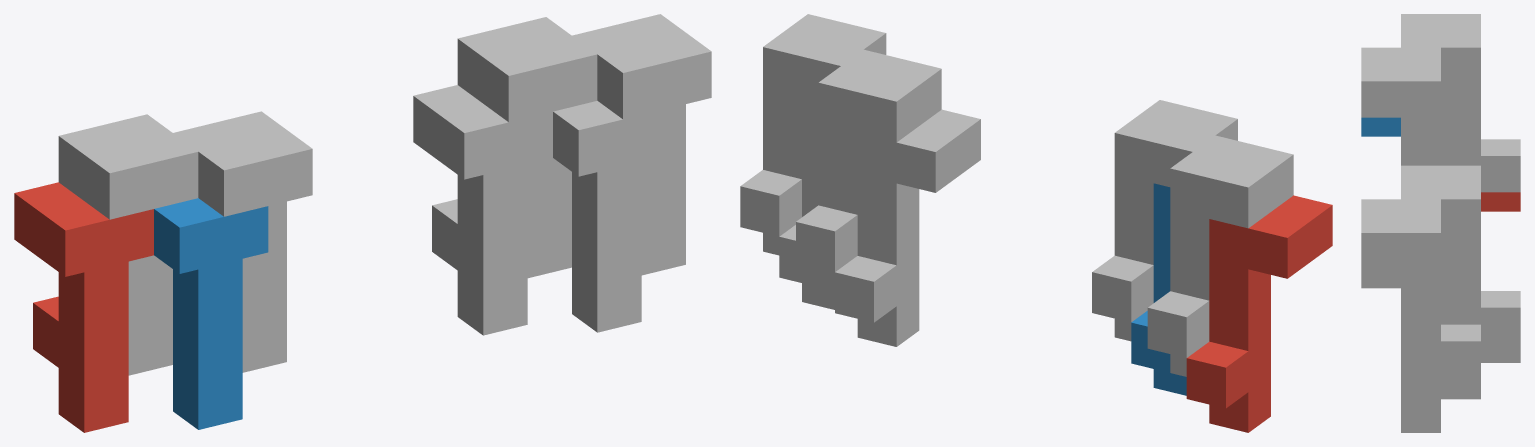
The model's file is tiling.obj.
3 views of the same model, side by side, from view 1: azimuth 30°, elevation 25°; view 2: azimuth 150°, elevation 25°; view 3: azimuth 270°, elevation 25° (orthographic). The views are drawn at different scales.
Visible parts, largest first — view 1: copy_1_domain_1, copy_1_domain_5, copy_1_domain_6, copy_1_domain_2, copy_1_domain_7, copy_1_domain_3, copy_1_domain_4, copy_1_domain_8; view 2: copy_1_domain_5, copy_1_domain_1, copy_1_domain_3, copy_1_domain_7, copy_1_domain_4, copy_1_domain_8, copy_1_domain_2, copy_1_domain_6; view 3: copy_1_domain_8, copy_1_domain_7, copy_1_domain_3, copy_1_domain_4, copy_1_domain_6, copy_1_domain_5, copy_1_domain_1, copy_1_domain_2.
Part boxes in pixels (<box>): copy_1_domain_1: <box>14,182,153,432</box>; copy_1_domain_5: <box>413,85,552,335</box>; copy_1_domain_6: <box>553,101,667,332</box>; copy_1_domain_2: <box>154,198,268,429</box>; copy_1_domain_7: <box>457,17,597,278</box>; copy_1_domain_3: <box>58,114,198,375</box>; copy_1_domain_4: <box>173,111,312,372</box>; copy_1_domain_8: <box>572,14,711,275</box>; copy_1_domain_5: <box>835,109,980,346</box>; copy_1_domain_1: <box>1186,195,1332,432</box>; copy_1_domain_3: <box>1147,135,1293,376</box>; copy_1_domain_7: <box>796,49,941,290</box>; copy_1_domain_4: <box>1092,100,1237,341</box>; copy_1_domain_8: <box>740,14,886,255</box>; copy_1_domain_2: <box>1131,183,1186,395</box>; copy_1_domain_6: <box>779,97,834,309</box>; copy_1_domain_8: <box>1361,199,1480,413</box>; copy_1_domain_7: <box>1401,165,1520,343</box>; copy_1_domain_3: <box>1401,14,1520,192</box>; copy_1_domain_4: <box>1361,47,1440,165</box>; copy_1_domain_6: <box>1361,269,1480,432</box>; copy_1_domain_5: <box>1441,344,1520,399</box>; copy_1_domain_1: <box>1481,192,1520,211</box>; copy_1_domain_2: <box>1361,117,1400,136</box>.
Bounding box in the file's own units: 14 × 6 × 4.
